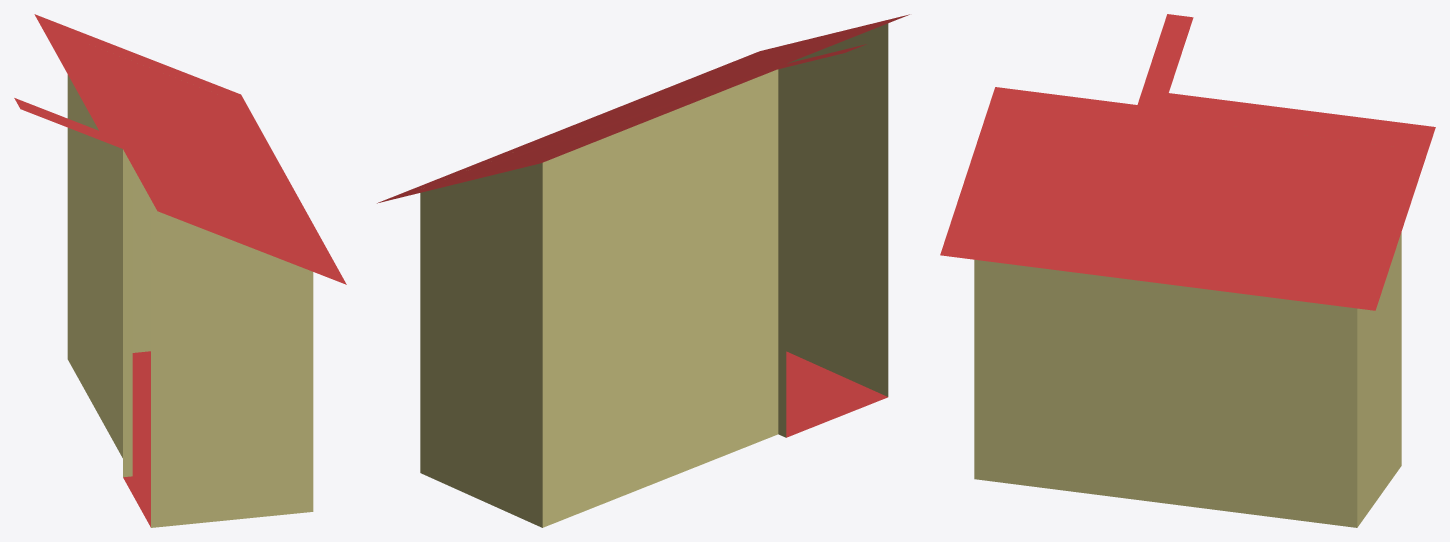
3 renders of one model, left to right at view 1: azimuth 30°, elevation 25°; view 2: azimuth 150°, elevation 25°; view 3: azimuth 270°, elevation 25°, orthographic. The views are drawn at different scales.
Bounding box in the file's own units: 6.76 × 9.04 × 7.48.
